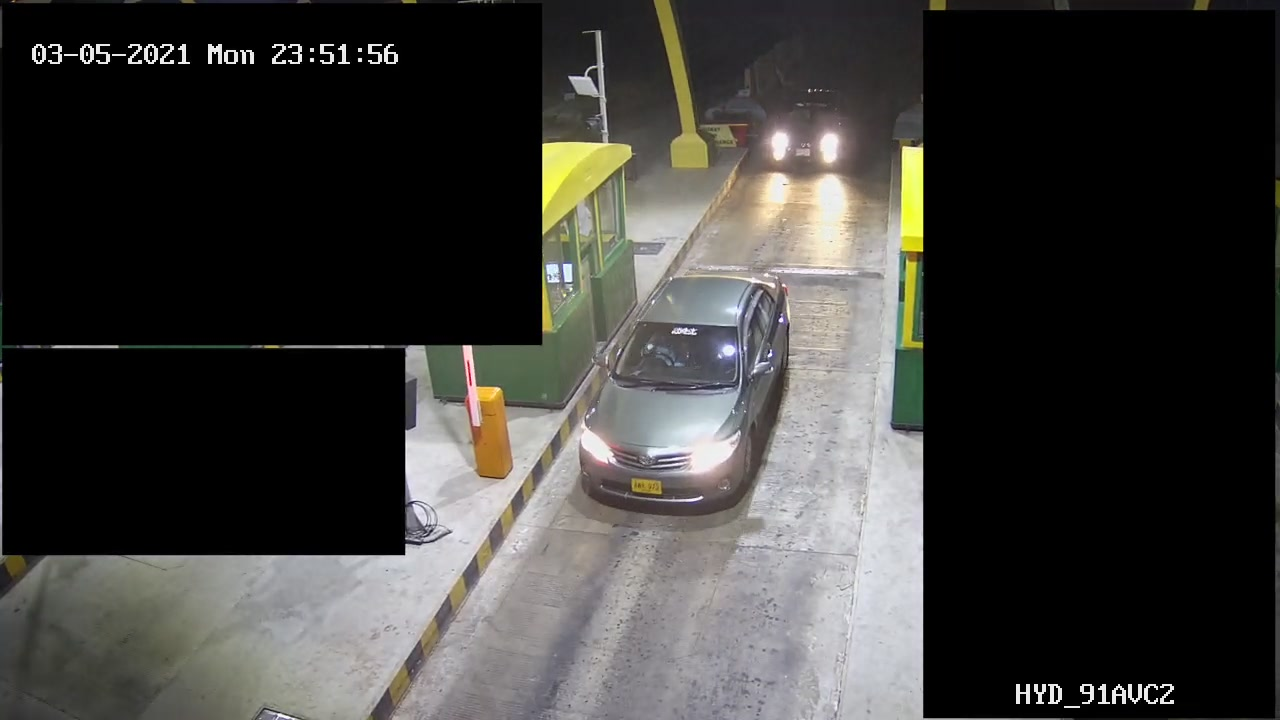F1: (571, 257, 793, 522)
